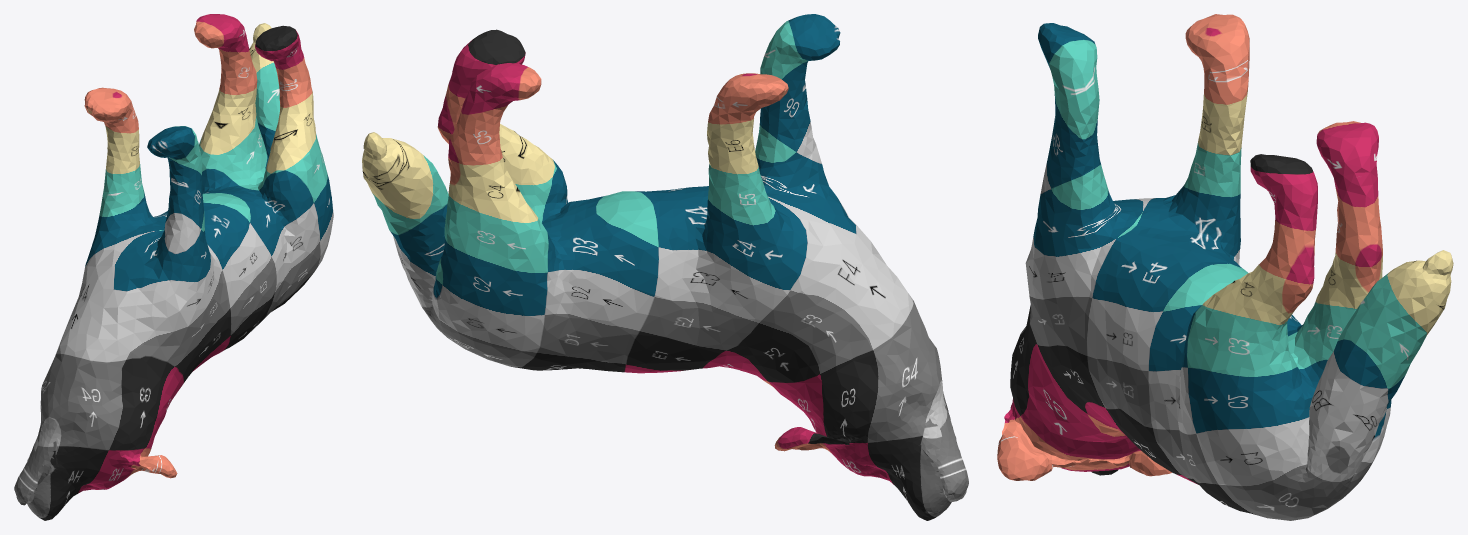
Rendered from wolf_01-wolf_03.obj.
3 renders of one model, left to right at view 1: azimuth 30°, elevation 25°; view 2: azimuth 150°, elevation 25°; view 3: azimuth 270°, elevation 25°, orthographic. The views are drawn at different scales.
Visible parts, largest first — view 1: wolf_01-wolf_03_export; view 2: wolf_01-wolf_03_export; view 3: wolf_01-wolf_03_export.
Boxes of the visible parts, x1=… form: wolf_01-wolf_03_export: x1=14, y1=14, x2=333, y2=520; wolf_01-wolf_03_export: x1=362, y1=14, x2=968, y2=520; wolf_01-wolf_03_export: x1=997, y1=14, x2=1453, y2=520.
Size of the model in its own units: 0.7472 by 0.7014 by 0.551.
